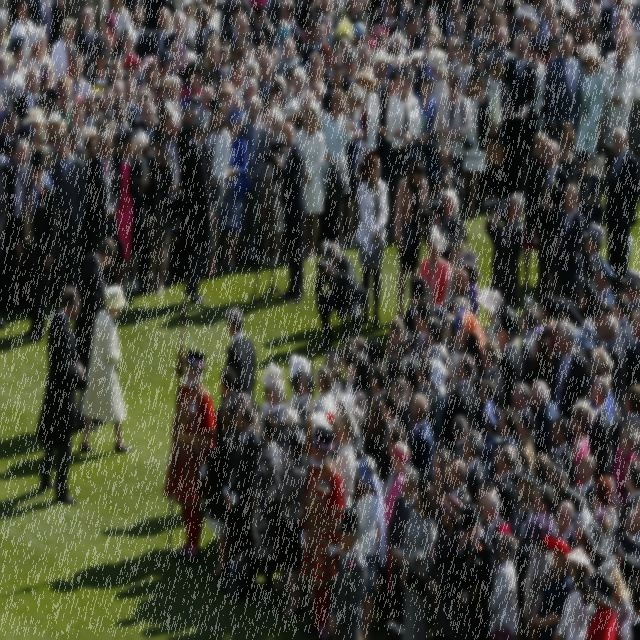pessoa: (450, 243, 640, 507), (278, 280, 450, 518), (163, 60, 447, 133), (446, 60, 640, 130), (158, 346, 218, 568), (32, 281, 85, 509), (78, 283, 136, 455), (300, 426, 346, 640), (70, 231, 118, 436), (16, 148, 56, 344), (446, 500, 499, 640), (574, 505, 639, 615), (178, 111, 214, 306), (202, 401, 240, 584), (272, 120, 309, 305), (224, 401, 264, 570), (352, 153, 390, 330), (352, 455, 388, 640), (232, 94, 270, 269), (533, 140, 572, 308), (600, 19, 639, 186), (432, 68, 473, 226), (326, 501, 372, 640), (398, 481, 438, 640), (151, 98, 183, 290), (604, 126, 640, 293), (277, 429, 308, 622), (314, 241, 369, 349), (50, 128, 87, 286), (252, 413, 282, 606), (3, 138, 36, 312), (142, 132, 176, 299), (503, 34, 538, 196), (394, 158, 429, 319), (110, 126, 142, 295), (217, 104, 249, 272), (484, 192, 526, 318), (428, 492, 464, 638), (386, 468, 419, 626), (385, 66, 421, 210), (321, 88, 354, 244), (384, 441, 412, 624), (204, 96, 232, 276), (531, 532, 575, 640), (546, 320, 590, 427), (522, 512, 558, 640), (522, 130, 550, 293), (460, 67, 490, 219), (298, 100, 326, 262), (260, 106, 288, 267), (544, 34, 582, 152), (553, 544, 597, 640), (84, 130, 122, 241), (482, 50, 509, 204), (487, 520, 520, 640), (571, 148, 605, 262), (598, 314, 626, 452), (220, 306, 258, 404), (344, 84, 366, 250), (556, 185, 586, 302), (422, 188, 464, 267), (576, 42, 604, 151), (354, 66, 380, 182), (444, 352, 480, 432), (509, 467, 541, 555), (376, 72, 402, 180), (599, 558, 633, 640), (412, 66, 437, 174), (528, 379, 562, 458), (408, 392, 436, 487), (610, 422, 640, 510), (588, 377, 612, 485), (479, 491, 512, 569), (418, 232, 451, 310), (362, 362, 389, 456), (292, 365, 316, 470), (330, 412, 356, 508), (176, 98, 208, 173), (448, 312, 488, 372), (584, 570, 618, 640), (625, 24, 640, 180), (568, 398, 594, 488), (74, 6, 105, 80), (587, 346, 614, 429), (119, 2, 151, 72), (258, 361, 287, 438), (408, 358, 438, 431), (546, 416, 576, 486), (160, 9, 197, 64), (49, 16, 78, 86), (601, 9, 638, 62), (480, 341, 506, 416), (10, 0, 38, 69), (262, 378, 288, 450), (214, 366, 239, 440), (29, 0, 60, 59), (352, 350, 373, 436), (401, 276, 432, 334), (441, 10, 473, 64), (526, 36, 546, 120), (510, 382, 537, 444), (386, 316, 408, 392), (231, 384, 261, 439), (116, 32, 146, 85), (280, 98, 304, 164), (494, 302, 522, 358), (284, 353, 311, 411), (4, 37, 30, 97), (612, 293, 638, 353), (84, 43, 115, 93), (446, 40, 474, 95), (194, 4, 222, 59), (0, 52, 21, 122), (557, 124, 581, 184), (68, 50, 94, 104), (322, 44, 350, 94), (426, 47, 450, 105), (25, 26, 55, 72), (304, 19, 332, 68), (210, 39, 234, 96), (322, 351, 344, 413), (484, 24, 516, 66), (409, 8, 437, 56), (574, 16, 604, 60), (99, 0, 132, 40), (149, 6, 176, 54), (313, 364, 337, 418), (222, 1, 252, 44), (462, 7, 489, 54), (266, 19, 294, 64), (172, 0, 200, 44), (136, 54, 160, 104), (23, 108, 49, 154), (228, 12, 250, 66), (271, 36, 296, 82), (122, 53, 146, 99), (520, 300, 546, 342), (0, 110, 19, 166), (304, 53, 328, 95), (78, 124, 98, 174), (540, 34, 563, 76), (0, 9, 15, 67), (257, 52, 275, 100), (295, 91, 316, 132), (202, 41, 220, 88), (228, 60, 246, 107), (404, 6, 422, 52), (198, 34, 220, 71), (514, 4, 540, 35), (33, 93, 55, 121), (101, 13, 116, 40)
